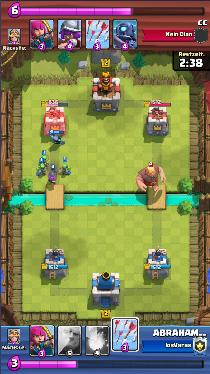ally_musketeer: (49, 170, 58, 183)
ally_spear_goblin: (60, 163, 70, 177), (39, 155, 50, 166), (36, 164, 45, 177)
enemy_giant: (137, 164, 166, 193)
